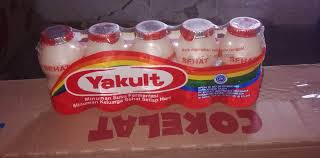Yakult (325ml): (35, 17, 281, 108)
